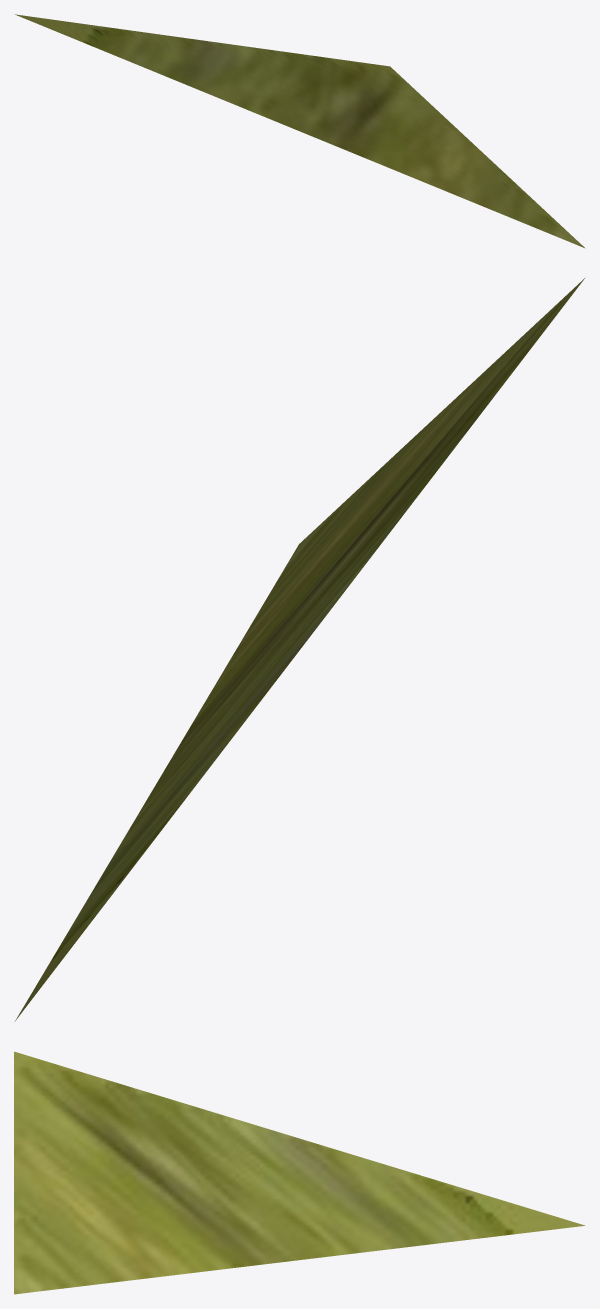
3 renders of one model, top to bottom at view 1: azimuth 30°, elevation 25°; view 2: azimuth 150°, elevation 25°; view 3: azimuth 270°, elevation 25°, orthographic. The views are drawn at different scales.
Bounding box in the file's own units: 0.4705 × 0.5283 × 1.59.
Materials: 1 (1 with a texture image).
